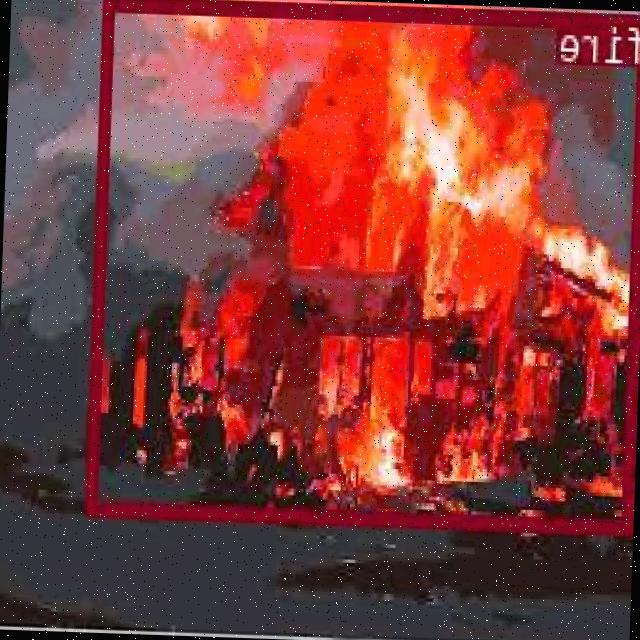fire: (89, 0, 640, 531)
